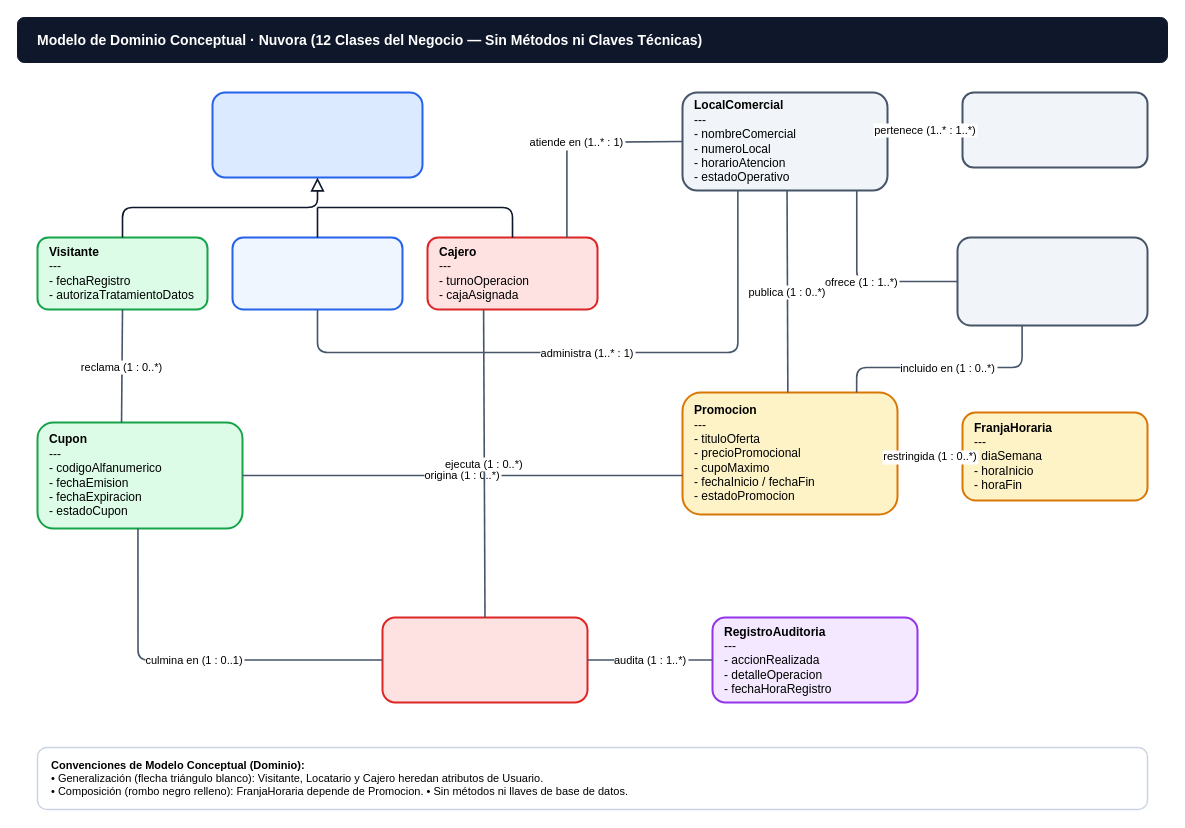
This 1185x828 diagram has some shape labels left out. Each missing label, with the centre of its shape:
"Categoria --- - nombreCategoria - iconoRepresentativo" goes at point (1054, 129).
"Locatario --- - cargoEnLocal - telefonoContacto" goes at point (317, 273).
"Producto --- - nombreProducto - descripcion - precioRegular" goes at point (1052, 281).
"Redencion --- - fechaHoraCanje - montoDescontado - metodoValidacion" goes at point (484, 659).
"Usuario --- - nombreCompleto - correoElectronico - estadoCuenta" goes at point (317, 134).
